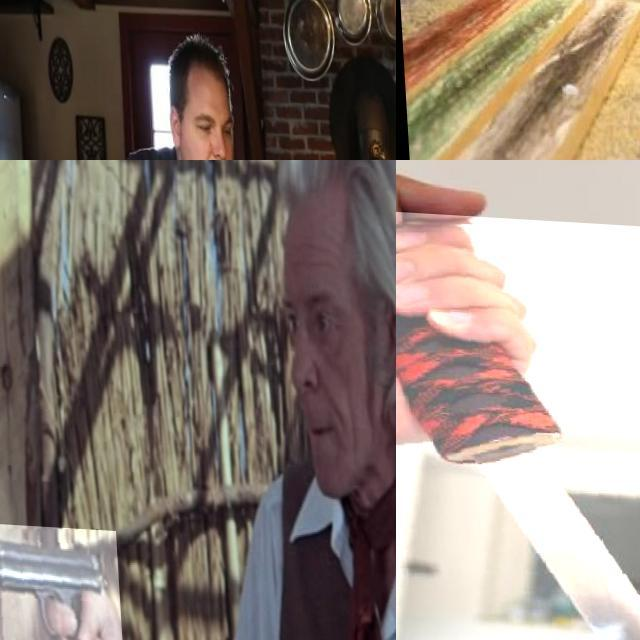-: (396, 206, 640, 640)
gun-knife-thesis - v11 Yolov5 augmented: (0, 522, 119, 640)
